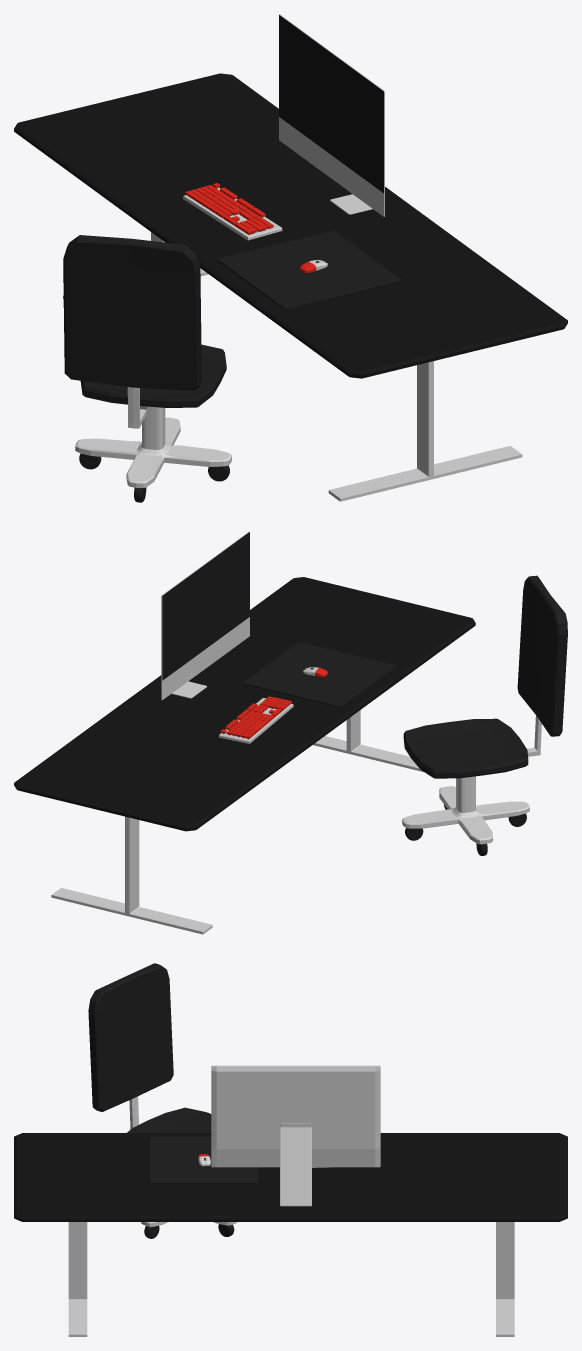
3 views of the same model, one above another, from view 1: azimuth 30°, elevation 25°; view 2: azimuth 150°, elevation 25°; view 3: azimuth 270°, elevation 25° (orthographic). The views are drawn at different scales.
Parts seen in each view (by area): view 1: Cube.002, Cube.100, Cube.001, Cube.098, Cube.087, Cube.097, Cube.004; view 2: Cube.002, Cube.098, Cube.001, Cube.100, Cube.087, Cube.097, Cube.004; view 3: Cube.002, Cube.001, Cube.100, Cube.097, Cube.087, Cube.003, Cube.098.
Part boxes in pixels (x1,y1,x2,y2): Cube.002: (14, 73, 567, 378); Cube.100: (63, 235, 201, 390); Cube.001: (279, 14, 384, 216); Cube.098: (75, 344, 231, 487); Cube.087: (217, 230, 401, 309); Cube.097: (63, 232, 522, 501); Cube.004: (183, 187, 282, 240); Cube.002: (14, 577, 475, 831); Cube.098: (402, 715, 541, 844); Cube.001: (161, 531, 249, 700); Cube.100: (517, 575, 567, 736); Cube.087: (243, 642, 396, 707); Cube.097: (51, 710, 423, 934); Cube.004: (219, 698, 293, 743); Cube.002: (14, 1133, 567, 1221); Cube.001: (211, 1065, 380, 1167); Cube.100: (88, 963, 173, 1111); Cube.097: (68, 1222, 514, 1336); Cube.087: (149, 1136, 258, 1183); Cube.003: (280, 1123, 311, 1206); Cube.098: (127, 1096, 237, 1227).
Size of the model in its own units: 3.49 by 2.51 by 5.
